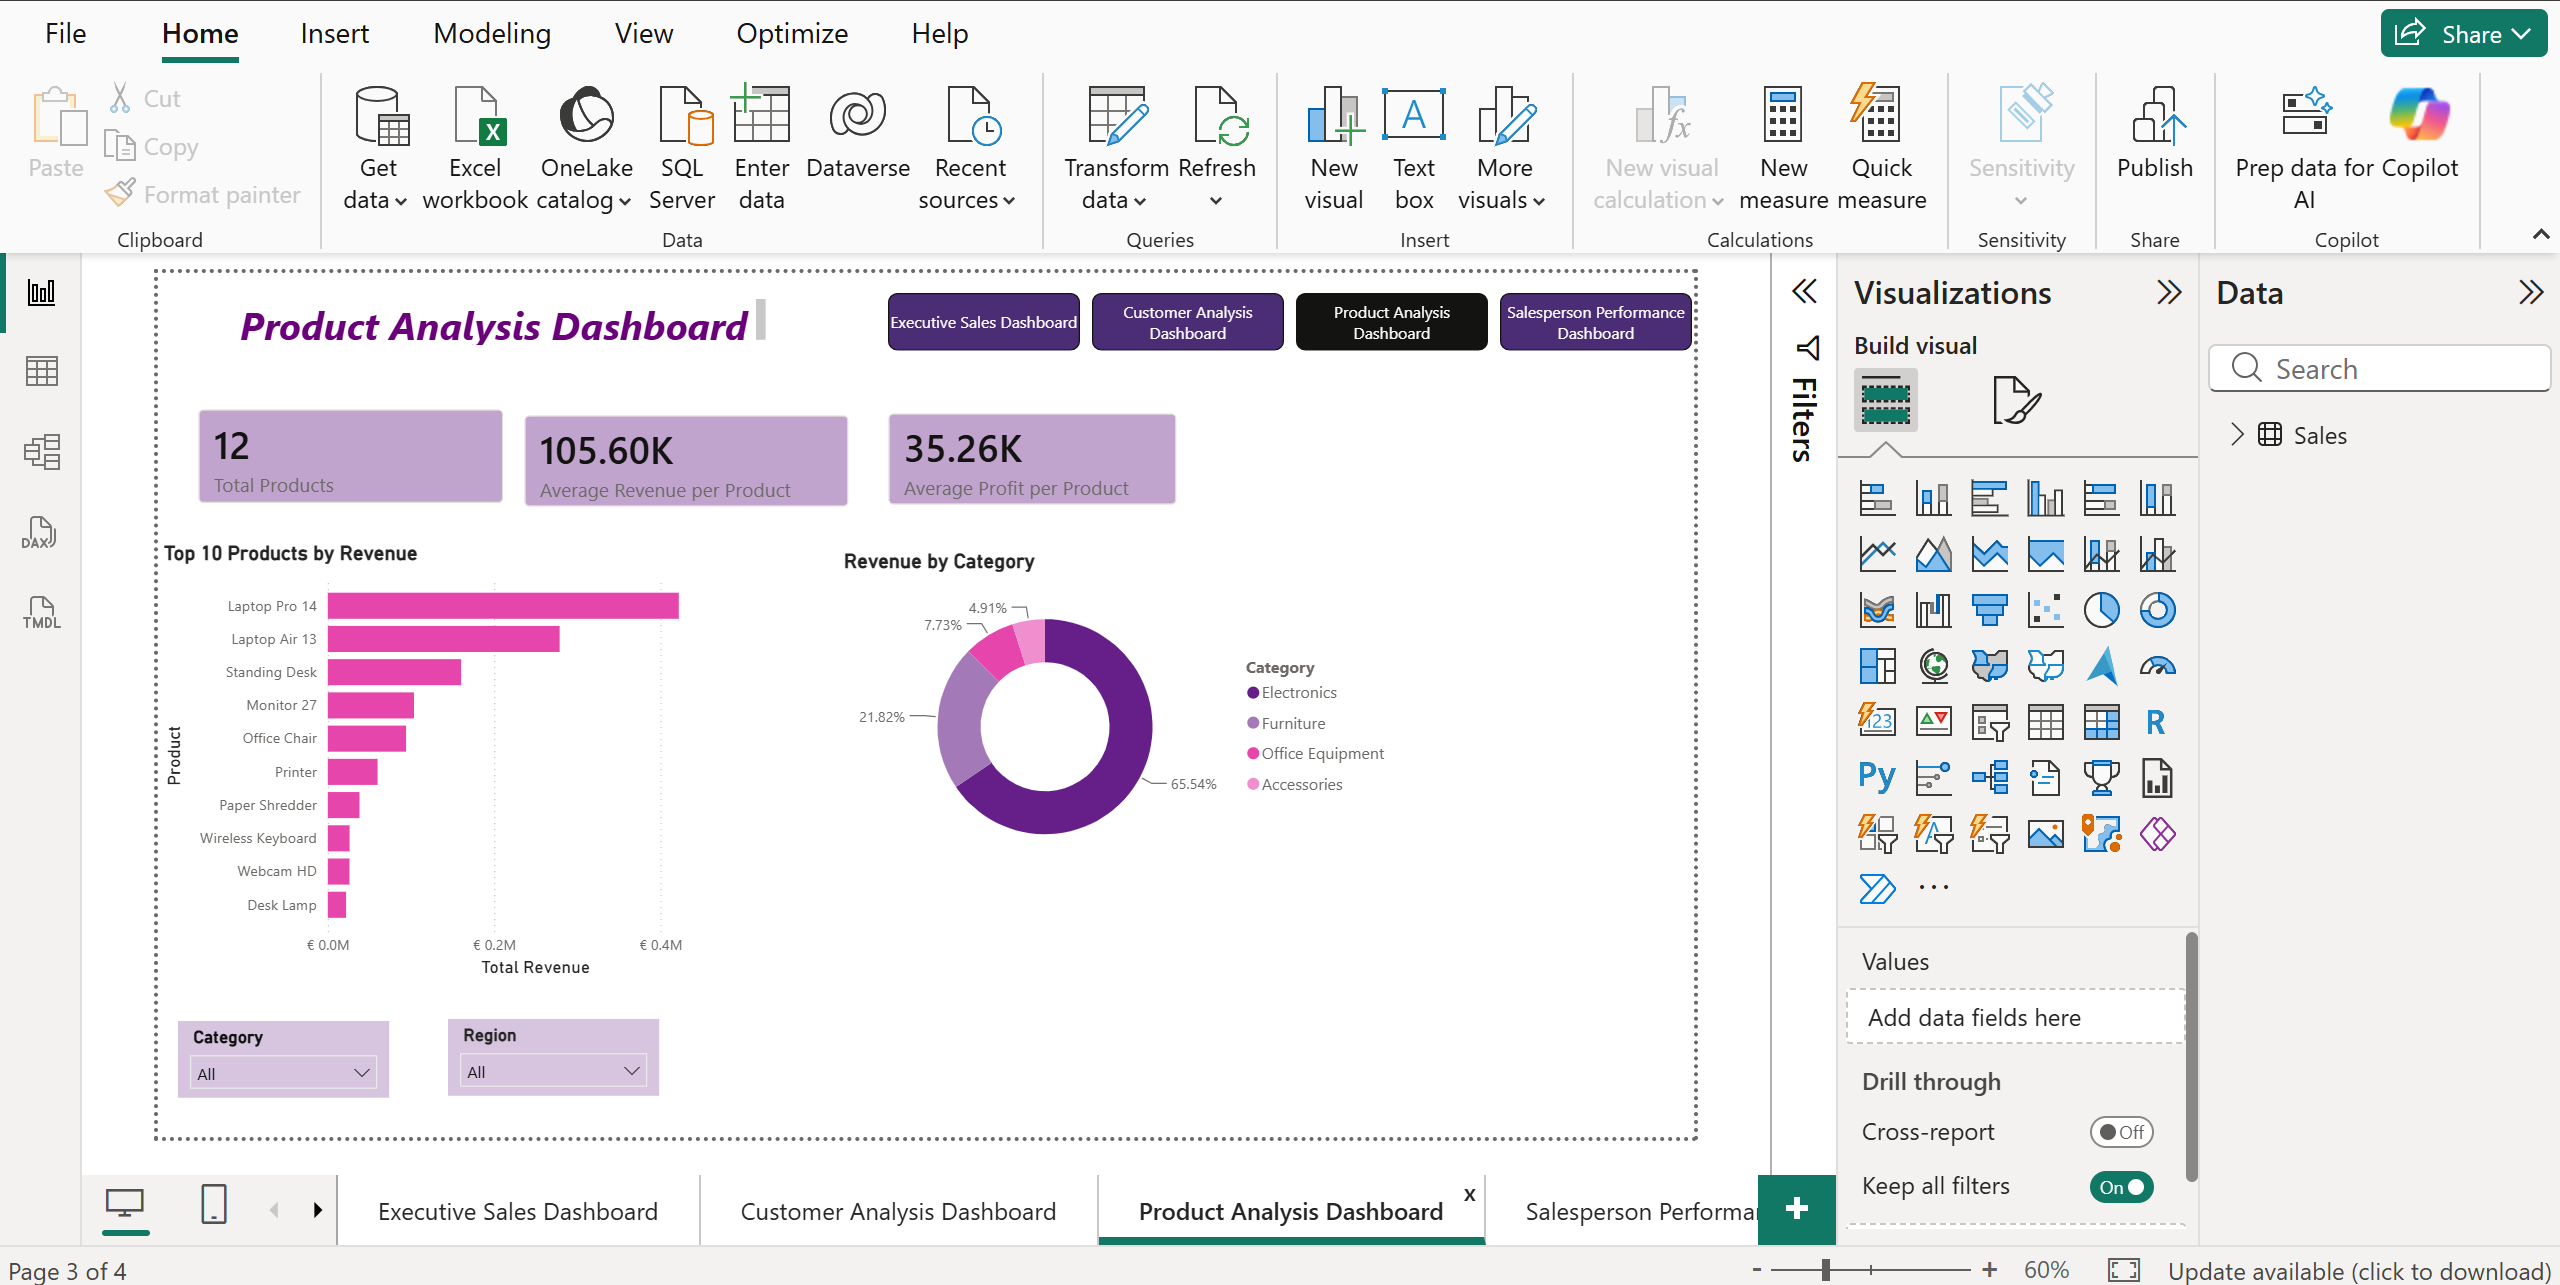

This screenshot's page, from the dashboard's own definition file:
{"tool":"powerbi","page":{"name":"Product Analysis Dashboard","canvas":[1280,720],"ordinal":2},"visuals":[{"type":"cardVisual","fields":{"Data":["Sales.Total Products"]},"box":[16,96,288,112],"z":0},{"type":"cardVisual","fields":{"Data":["Sales.Average Revenue per Product"]},"box":[288.2,101.7,304.3,110],"z":1000},{"type":"cardVisual","fields":{"Data":["Sales.Average Profit per Product"]},"box":[591,100.2,274.3,110],"z":2000},{"type":"textbox","box":[64,16,448,48],"z":3000},{"type":"clusteredBarChart","title":"Top 10 Products by Revenue","fields":{"Category":["Sales.Product"],"Y":["Sales.Total Revenue"]},"box":[0,224,512,368],"z":4000},{"type":"donutChart","title":" Revenue by Category","fields":{"Category":["Sales.Category"],"Y":["Sales.Total Revenue"]},"box":[566.7,229.2,470,277.1],"z":5000},{"type":"slicer","fields":{"Values":["Sales.Category"]},"box":[16,624,176,64],"z":6000},{"type":"slicer","fields":{"Values":["Sales.Region"]},"box":[241,622.4,176,64],"z":7000},{"type":"pageNavigator","box":[608,16,672,48],"z":8000}]}

Visuals, with their boxes on the page's 1280x720 design canvas (x1, y1, x2, y2). These are canvas units, not pixel positions in the 2560x1285 screenshot, which may show the page scaled, cropped or inside an application window:
cardVisual - Sales.Total Products: crop(16, 96, 304, 208)
cardVisual - Sales.Average Revenue per Product: crop(288, 102, 592, 212)
cardVisual - Sales.Average Profit per Product: crop(591, 100, 865, 210)
textbox: crop(64, 16, 512, 64)
"Top 10 Products by Revenue" clusteredBarChart: crop(0, 224, 512, 592)
" Revenue by Category" donutChart: crop(567, 229, 1037, 506)
slicer - Sales.Category: crop(16, 624, 192, 688)
slicer - Sales.Region: crop(241, 622, 417, 686)
pageNavigator: crop(608, 16, 1280, 64)
